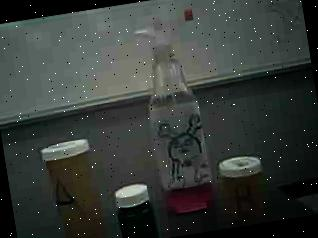Bottle A: (31, 126, 117, 238)
Bottle B: (212, 148, 274, 229)
Bottle C: (104, 170, 163, 238)
hazard: (123, 4, 223, 222)
